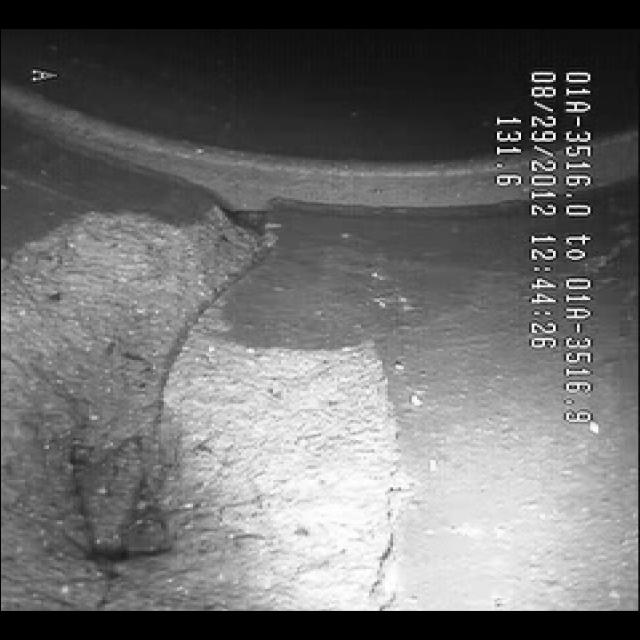Fracture: (53, 196, 360, 580)
